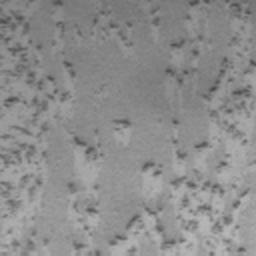Oxide scale of temperature system: (106, 1, 256, 256), (0, 0, 77, 256), (164, 0, 211, 102), (67, 128, 104, 255), (91, 4, 133, 50), (141, 161, 164, 198), (146, 1, 161, 42), (113, 118, 133, 146), (72, 24, 82, 46)
